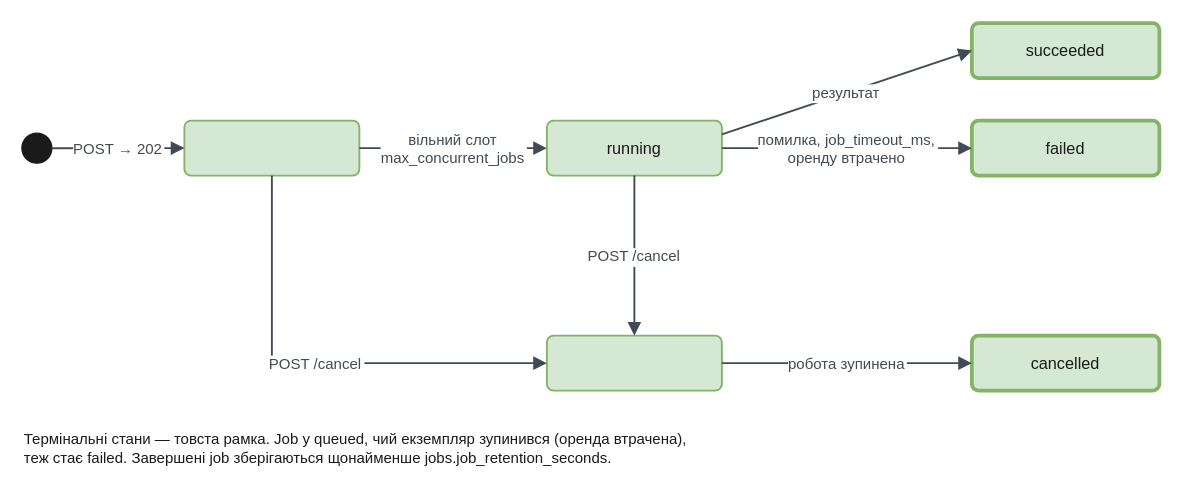
Some shapes in this 1183 by 495 pixel diagram are drawn without their labels. Each missing label, with the centre of its shape:
"cancelling" belongs at (x=633, y=362).
"queued" belongs at (x=271, y=147).
